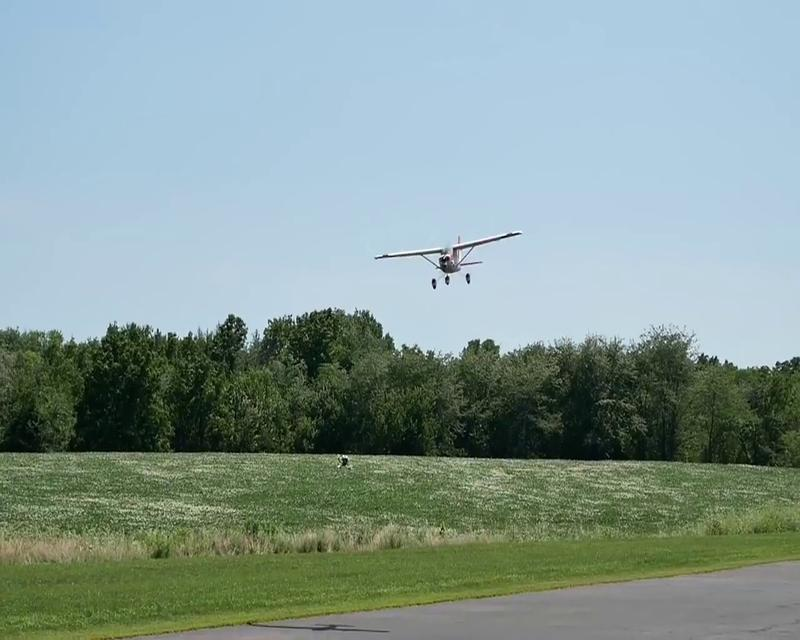UAV: (372, 229, 523, 289)
